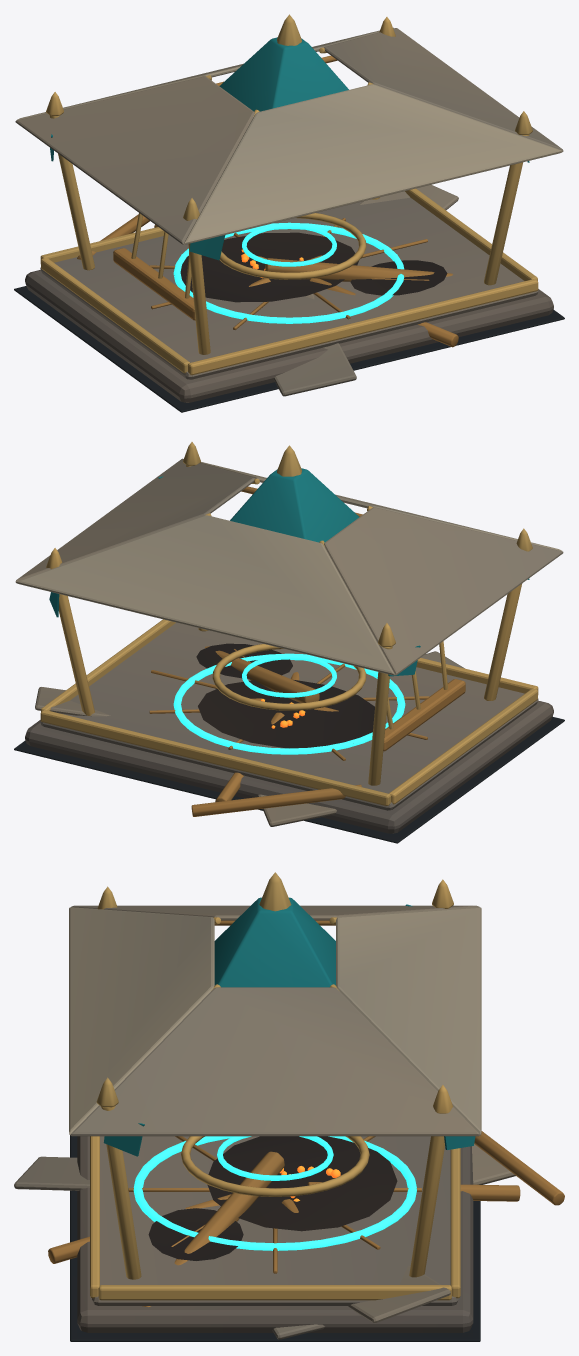
Rendered from sunwoven_formation_yard.glb.
3 renders of one model, top to bottom at view 1: azimuth 30°, elevation 25°; view 2: azimuth 150°, elevation 25°; view 3: azimuth 270°, elevation 25°, orthographic. The views are drawn at different scales.
Visible parts, largest first — view 1: yard_canopy_front, yard_deck_top, yard_canopy_left, yard_deck_base, yard_canopy_right, yard_critical_burn, yard_crown, yard_kerb_long_-1, yard_contact_pad, yard_training_ring, yard_wreck_cloth_02, yard_kerb_short_-1 (+16 smaller); view 2: yard_canopy_back, yard_deck_top, yard_canopy_left, yard_deck_base, yard_canopy_right, yard_critical_burn, yard_crown, yard_kerb_long_1, yard_contact_pad, yard_training_ring, yard_kerb_short_-1, yard_loom_outer (+16 smaller); view 3: yard_canopy_right, yard_deck_top, yard_canopy_back, yard_canopy_front, yard_deck_base, yard_critical_burn, yard_crown, yard_kerb_short_1, yard_contact_pad, yard_training_ring, yard_canopy_left, yard_damage_burn (+15 smaller).
Boxes of the visible parts, x1,y1,x2,y2 form: yard_canopy_front: [184, 84, 562, 244]; yard_deck_top: [40, 197, 538, 379]; yard_canopy_left: [15, 76, 254, 244]; yard_deck_base: [25, 270, 553, 402]; yard_canopy_right: [324, 28, 563, 151]; yard_critical_burn: [174, 232, 358, 302]; yard_crown: [219, 37, 348, 111]; yard_kerb_long_-1: [188, 279, 538, 375]; yard_contact_pad: [14, 286, 564, 412]; yard_training_ring: [173, 222, 404, 323]; yard_wreck_cloth_02: [273, 294, 356, 396]; yard_kerb_short_-1: [41, 258, 189, 373]; yard_canopy_back: [16, 515, 395, 675]; yard_deck_top: [40, 622, 538, 810]; yard_canopy_left: [324, 507, 563, 675]; yard_deck_base: [25, 700, 553, 833]; yard_canopy_right: [15, 458, 254, 582]; yard_critical_burn: [198, 680, 374, 748]; yard_crown: [230, 468, 359, 542]; yard_kerb_long_1: [40, 710, 390, 805]; yard_contact_pad: [14, 717, 564, 843]; yard_training_ring: [173, 653, 405, 754]; yard_kerb_short_-1: [389, 688, 537, 804]; yard_loom_outer: [212, 644, 366, 710]; yard_canopy_right: [70, 987, 480, 1136]; yard_deck_top: [92, 1136, 458, 1305]; yard_canopy_back: [336, 907, 481, 1134]; yard_canopy_front: [69, 907, 214, 1134]; yard_deck_base: [77, 1136, 473, 1332]; yard_critical_burn: [207, 1136, 397, 1231]; yard_crown: [214, 897, 335, 987]; yard_kerb_short_1: [98, 1285, 451, 1300]; yard_contact_pad: [70, 1135, 480, 1341]; yard_training_ring: [133, 1136, 416, 1250]; yard_canopy_left: [71, 905, 479, 920]; yard_damage_burn: [148, 1208, 243, 1260].
Size of the model in its own units: 8.6 by 5.95 by 8.34.
